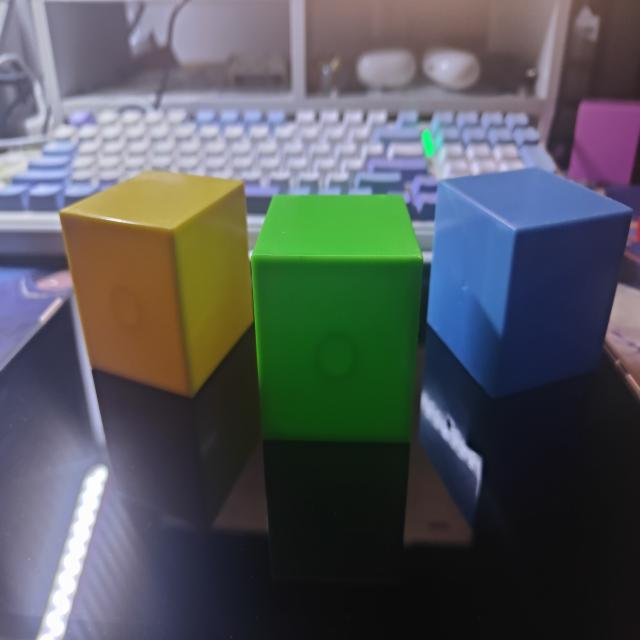yellow: (59, 174, 251, 400)
